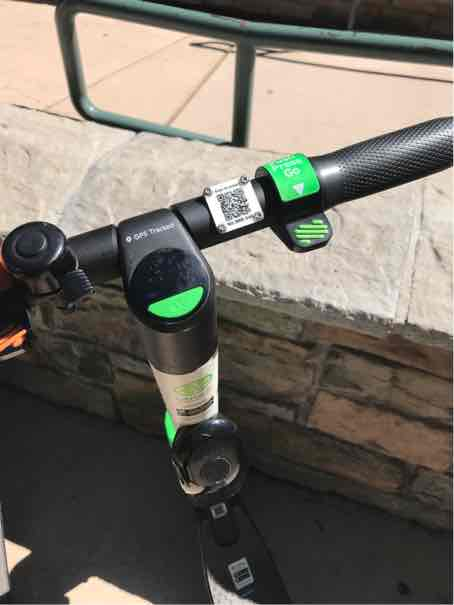scooter: (2, 119, 443, 605)
